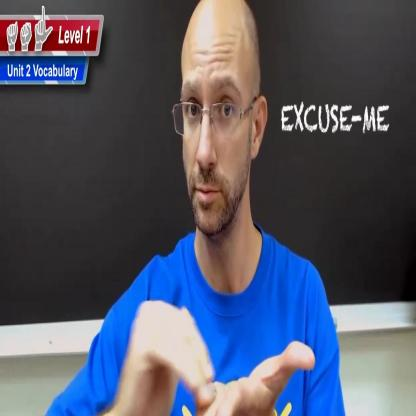ExcuseMe: (114, 270, 318, 406)
